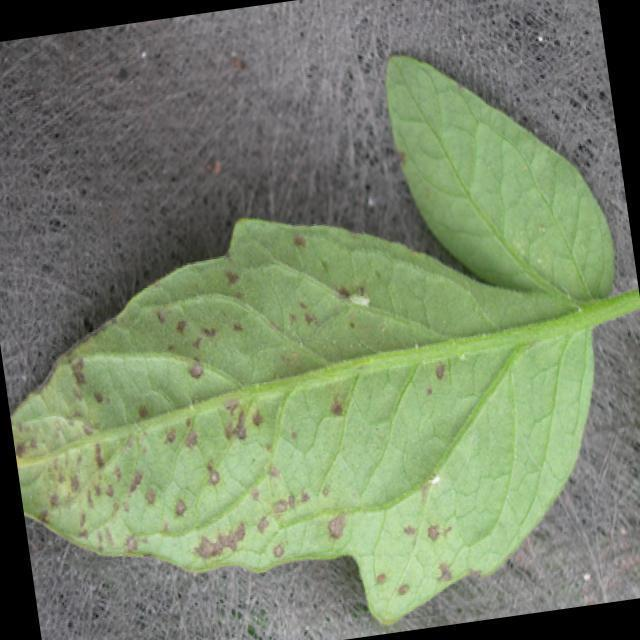Bacterial Spot: (99, 278, 457, 588)
Healthy Leaf: (390, 32, 617, 321)
